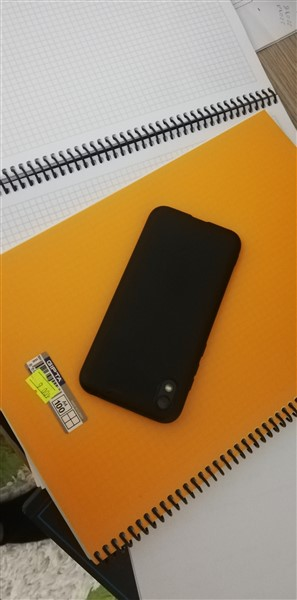telefon: (73, 203, 248, 430)
